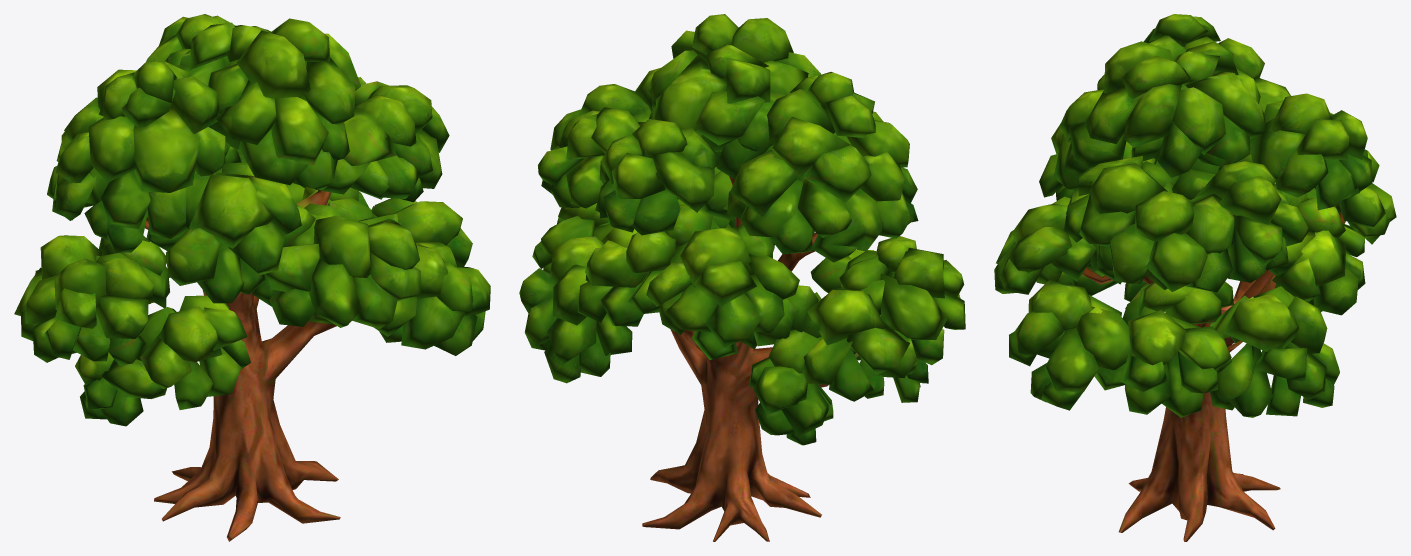
File: tree-broadleaf.glb
3 views of the same model, side by side, from view 1: azimuth 30°, elevation 25°; view 2: azimuth 150°, elevation 25°; view 3: azimuth 270°, elevation 25° (orthographic). The views are drawn at different scales.
Parts seen in each view (by area): view 1: tree-broadleaf; view 2: tree-broadleaf; view 3: tree-broadleaf.
Part boxes in pixels (left/top/right/bottom): tree-broadleaf: left=14, top=14, right=490, bottom=541; tree-broadleaf: left=519, top=14, right=965, bottom=541; tree-broadleaf: left=994, top=14, right=1396, bottom=541.
Bounding box in the file's own units: 6.64 × 7.39 × 5.8.
1 material, 1 textured.
